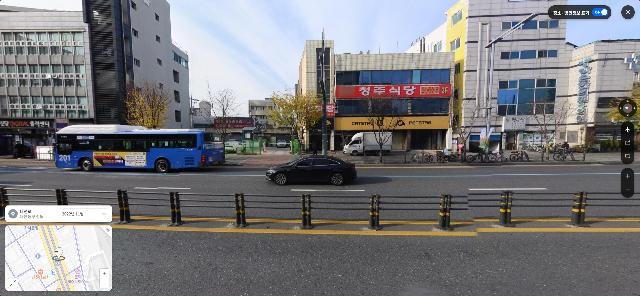ginkgo: (264, 91, 323, 159), (127, 79, 171, 129), (607, 80, 639, 130)
other: (440, 79, 487, 162), (201, 75, 244, 154), (531, 95, 567, 162), (369, 87, 398, 162)
